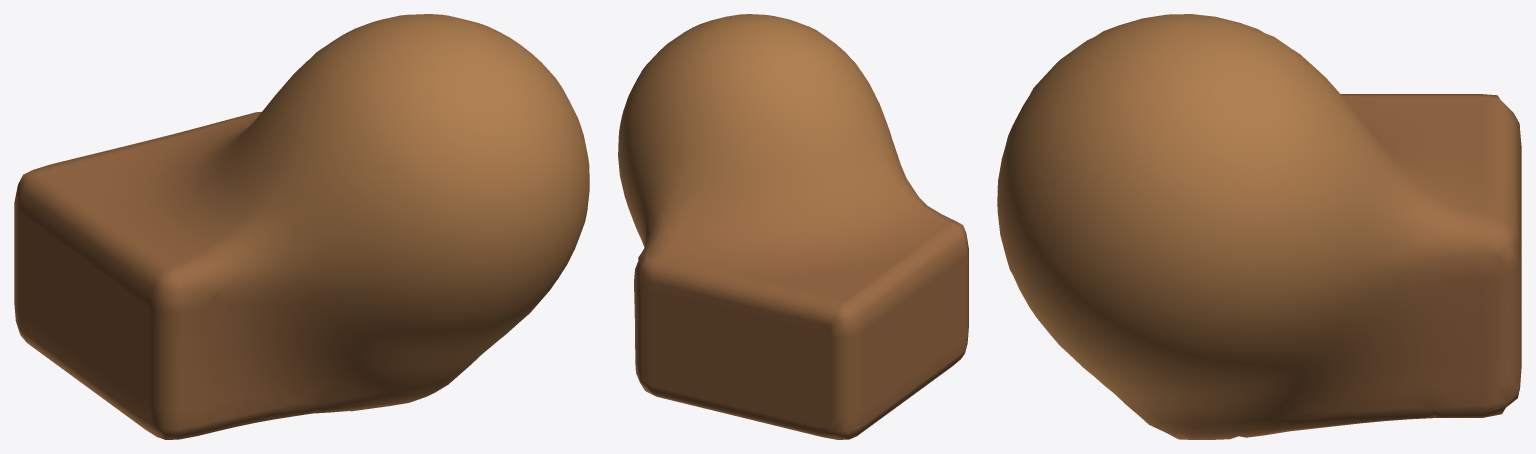
Rendered from 44_quads_2000.fbx.
3 views of the same model, side by side, from view 1: azimuth 30°, elevation 25°; view 2: azimuth 150°, elevation 25°; view 3: azimuth 270°, elevation 25° (orthographic). The views are drawn at different scales.
Parts seen in each view (by area): view 1: claycore; view 2: claycore; view 3: claycore.
Part boxes in pixels (x1,y1,x2,y2): claycore: [14, 14, 589, 439]; claycore: [618, 14, 968, 439]; claycore: [997, 14, 1521, 439].
Size of the model in its own units: 0.7485 by 0.63 by 0.7287.
